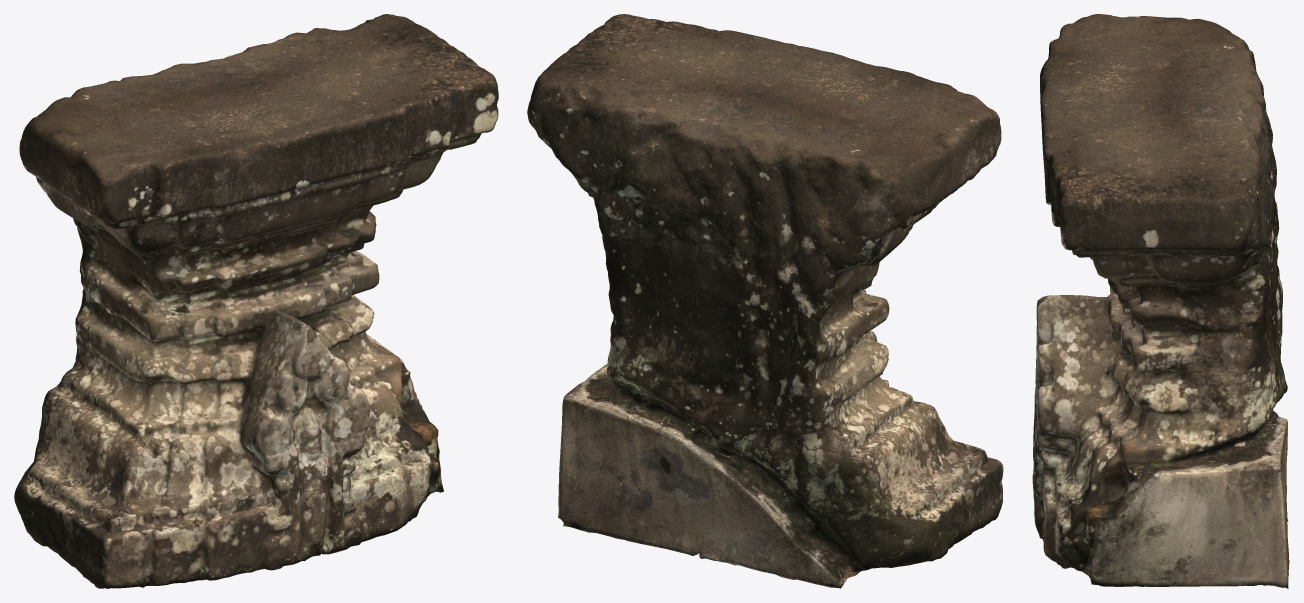
The model's file is 04_MysonSanctuaryD_VatTrangTriChanTuong_final.glb.
3 views of the same model, side by side, from view 1: azimuth 30°, elevation 25°; view 2: azimuth 150°, elevation 25°; view 3: azimuth 270°, elevation 25° (orthographic). The views are drawn at different scales.
Bounding box in the file's own units: 1.08 × 1.11 × 0.6138.
Materials: 1 (1 with a texture image).
